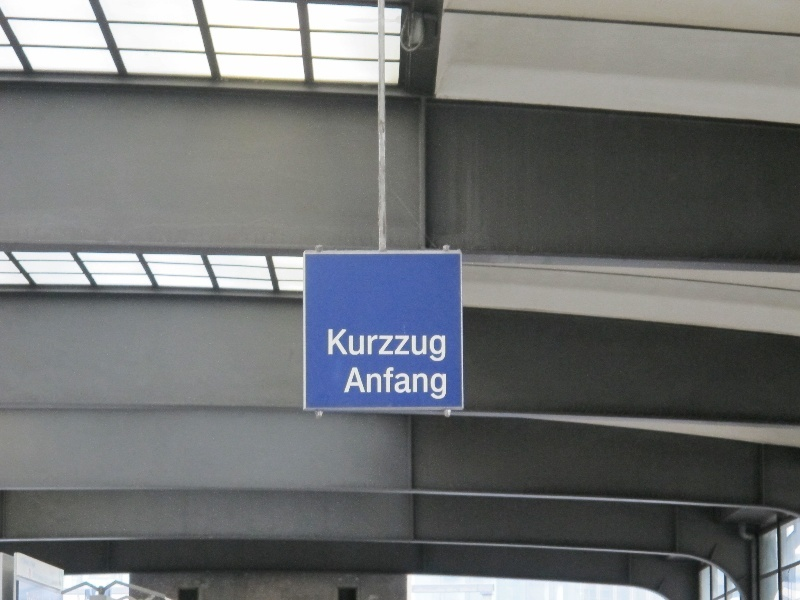text: (337, 328, 352, 363), (353, 328, 368, 363), (369, 328, 384, 363), (385, 328, 400, 363), (401, 328, 416, 363), (417, 328, 432, 363), (353, 367, 368, 401), (369, 367, 384, 401), (385, 367, 400, 401), (401, 367, 416, 401), (417, 367, 432, 401), (433, 367, 448, 401), (433, 328, 447, 363), (327, 328, 336, 363), (351, 367, 352, 401)
